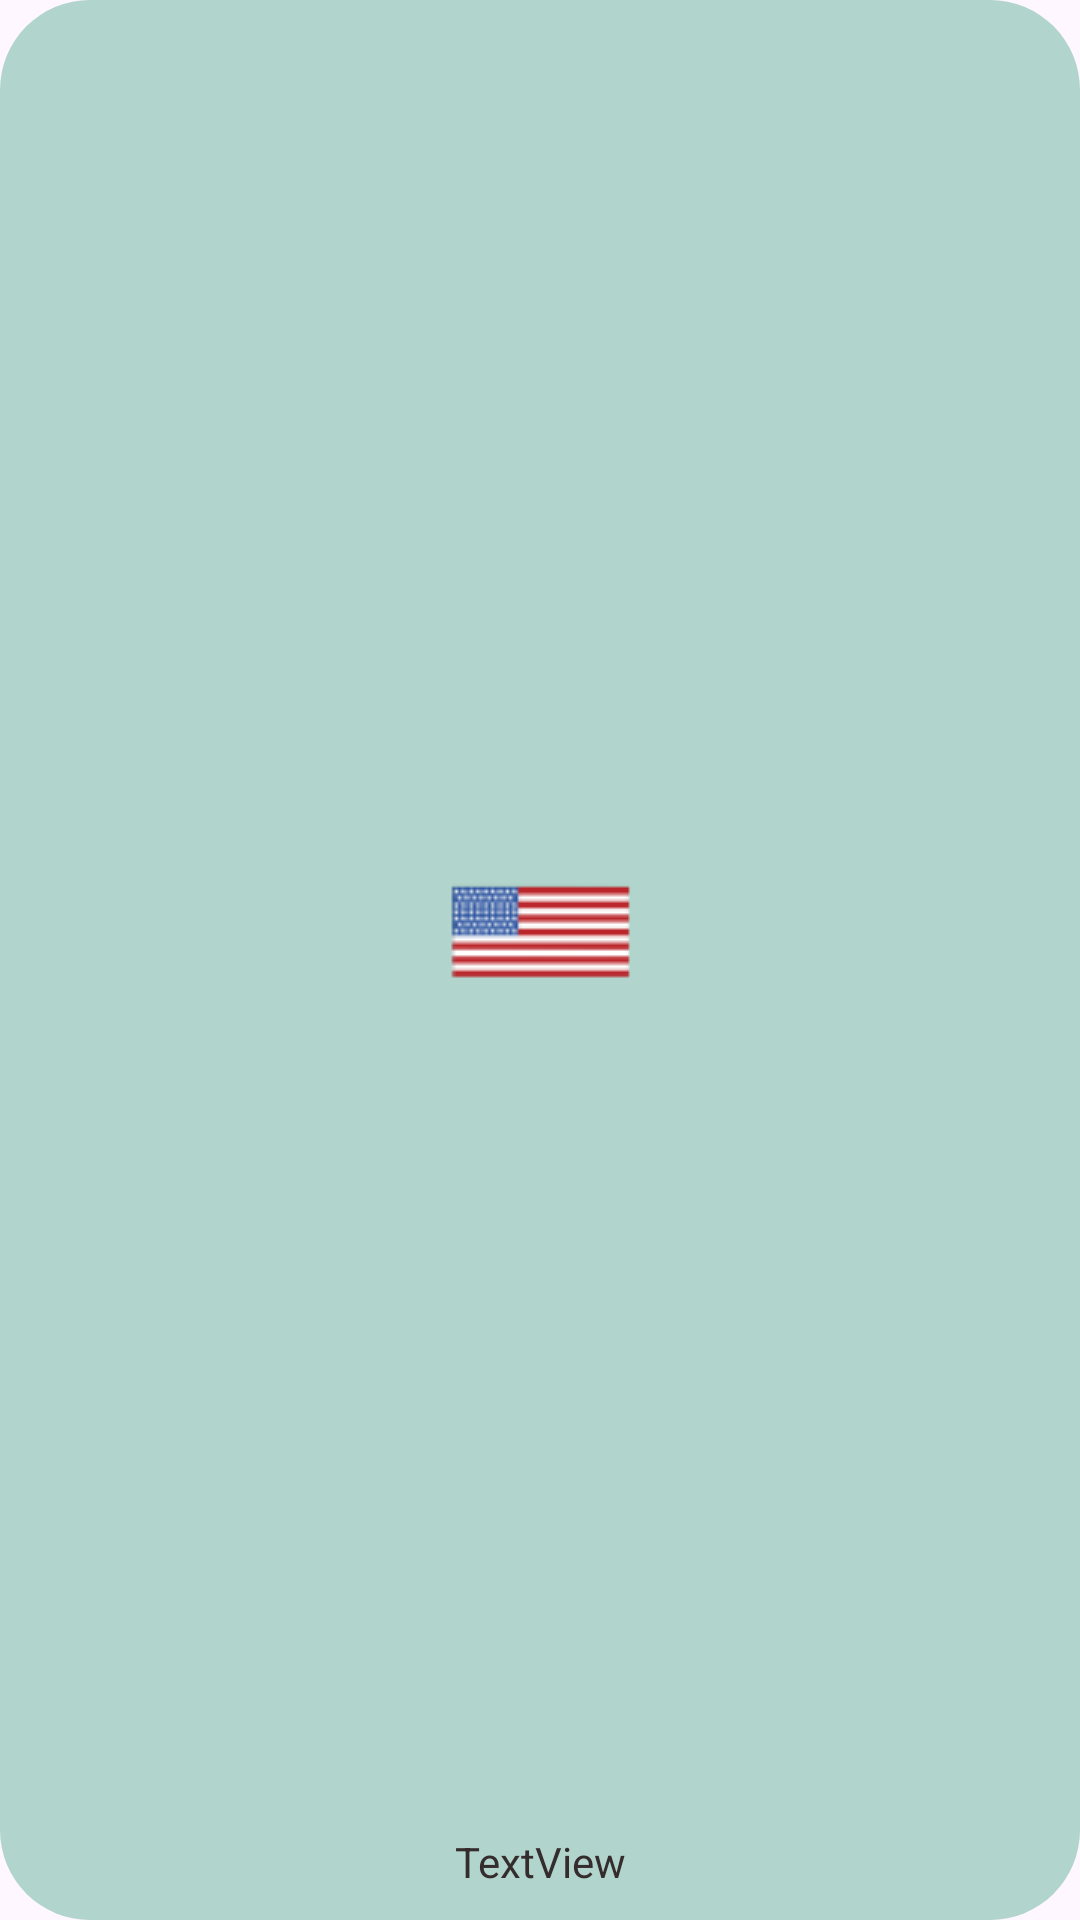

Screen size 1080px x 1920px. Icon name, then its center in pixels as point (x, y):
lang flag: point (540, 932)
